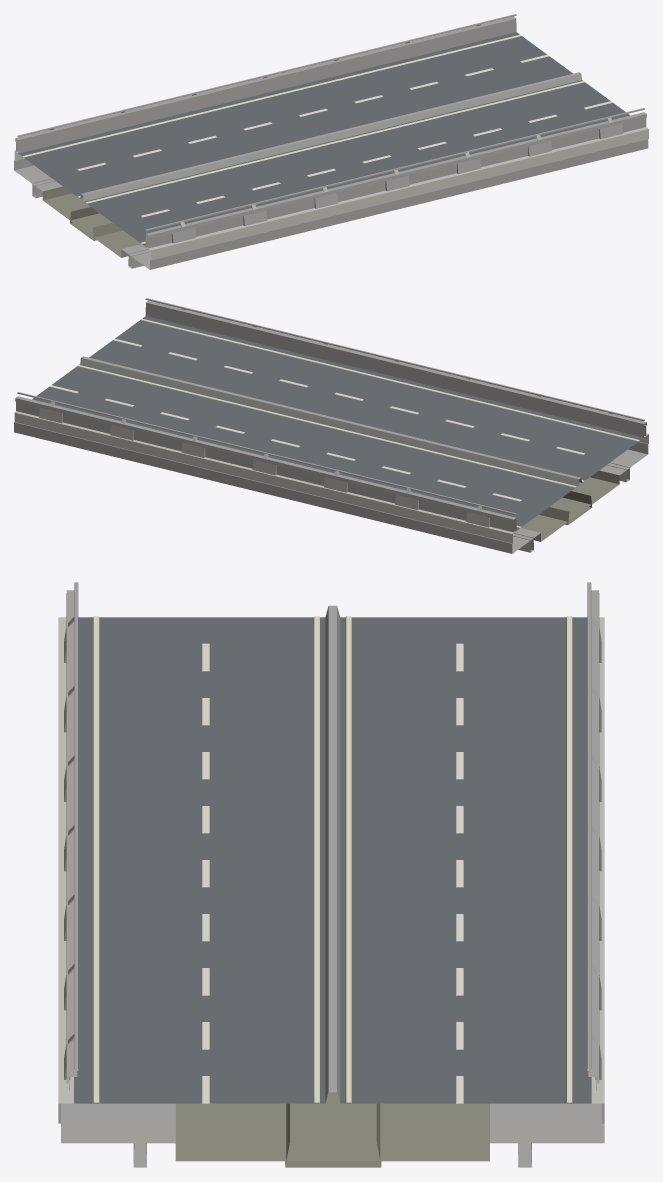
File: bridge1.fbx
The picture shows the model from 3 angles, top to bottom: view 1: azimuth 30°, elevation 25°; view 2: azimuth 150°, elevation 25°; view 3: azimuth 270°, elevation 25°; orthographic projection. The views are drawn at different scales.
Parts seen in each view (by area): view 1: bridge1; view 2: bridge1; view 3: bridge1.
Boxes of the visible parts, left/top/right/bottom form: bridge1: left=14, top=14, right=648, bottom=269; bridge1: left=14, top=298, right=648, bottom=553; bridge1: left=58, top=582, right=604, bottom=1167.
Bounding box in the file's own units: 3500 × 332 × 1662.
